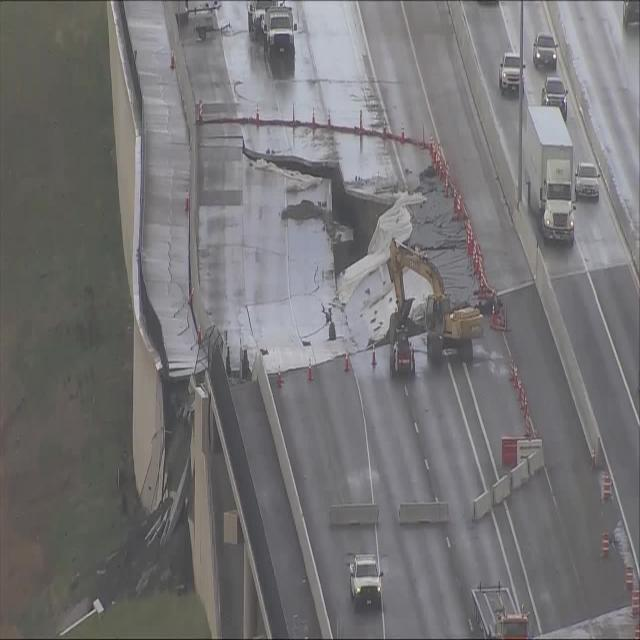collapsed_building: (137, 11, 480, 634)
